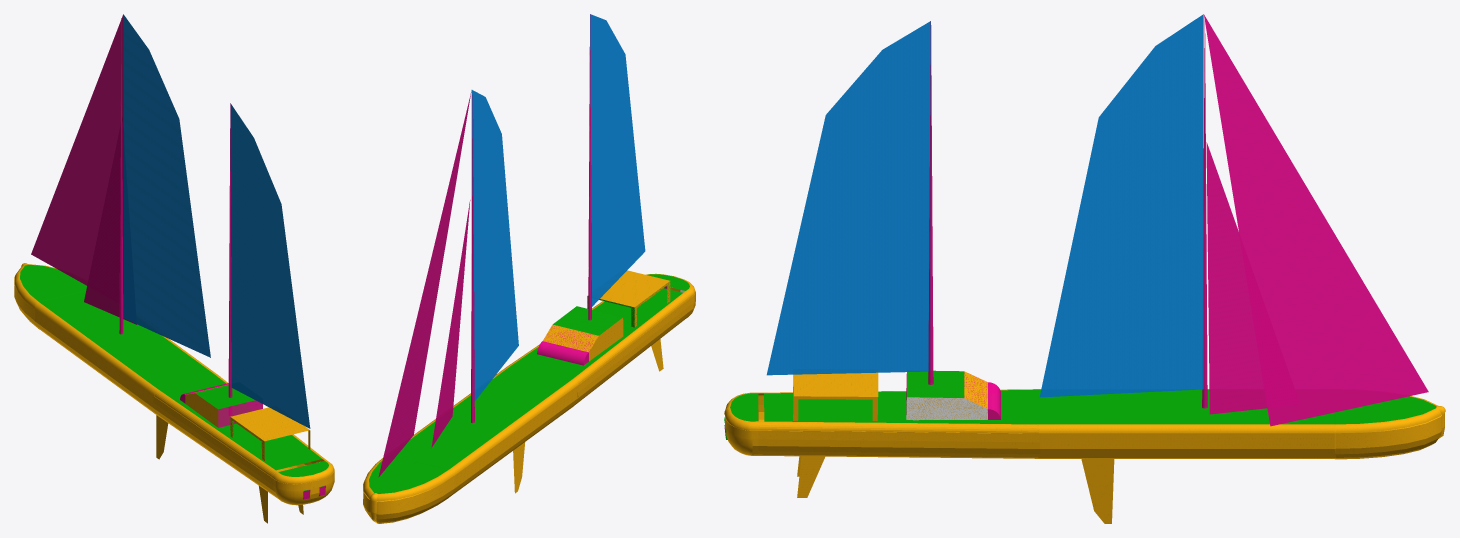
File: TARA_GENOIS_BABORD.dae
3 views of the same model, side by side, from view 1: azimuth 30°, elevation 25°; view 2: azimuth 150°, elevation 25°; view 3: azimuth 270°, elevation 25° (orthographic). The views are drawn at different scales.
Parts seen in each view (by area): view 1: SketchUp (×14); view 2: SketchUp (×14); view 3: SketchUp (×12).
Boxes of the visible parts, left/top/right/bottom form: SketchUp (×14): left=14, top=14, right=334, bottom=505; SketchUp (×14): left=363, top=14, right=695, bottom=523; SketchUp (×12): left=725, top=14, right=1442, bottom=523.
Bounding box in the file's own units: 27196 × 202831 × 158988.
